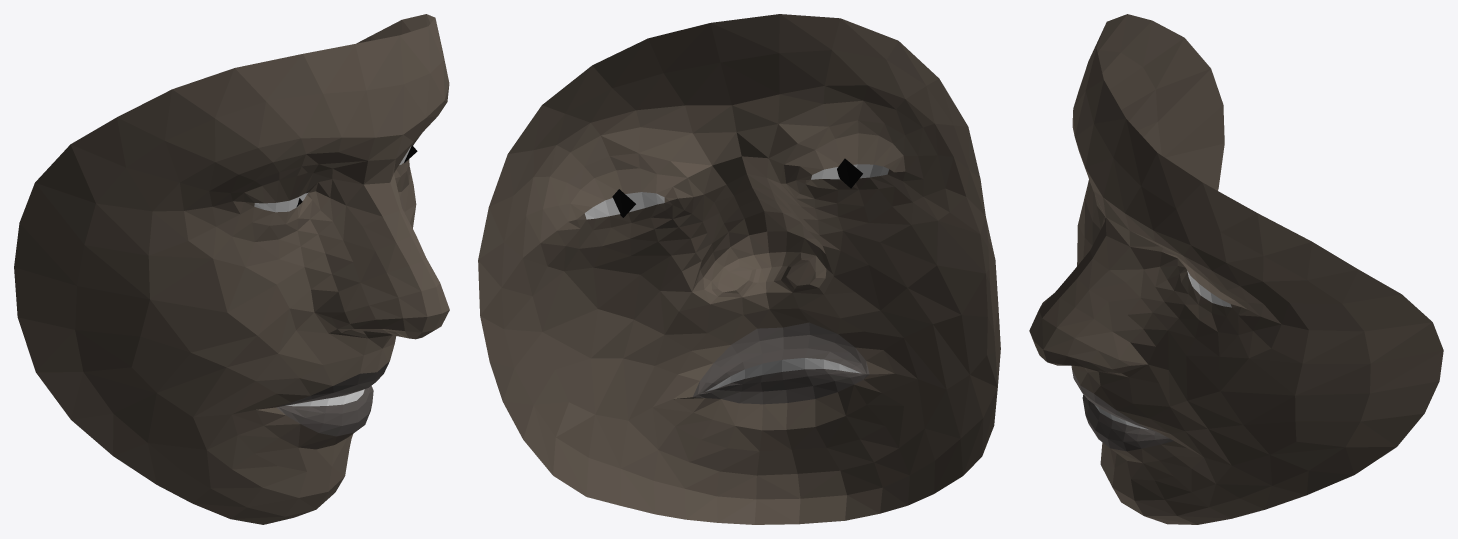
File: frame_00089.obj
3 renders of one model, left to right at view 1: azimuth 30°, elevation 25°; view 2: azimuth 150°, elevation 25°; view 3: azimuth 270°, elevation 25°, orthographic. The views are drawn at different scales.
Parts seen in each view (by area): view 1: face_model_with_iris; view 2: face_model_with_iris; view 3: face_model_with_iris.
Boxes of the visible parts, box(x1,y1,x2,y2) form: face_model_with_iris: box(14, 14, 449, 524); face_model_with_iris: box(478, 14, 1000, 524); face_model_with_iris: box(1029, 14, 1443, 524).
Bounding box in the file's own units: 0.4997 × 0.533 × 0.4394.
